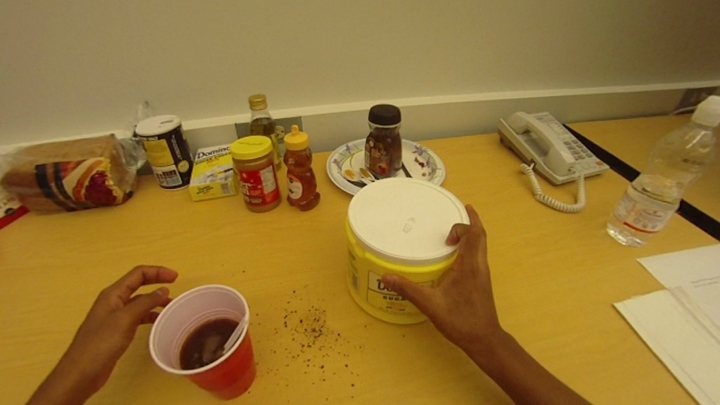hand: (382, 200, 511, 359), (76, 260, 174, 370)
